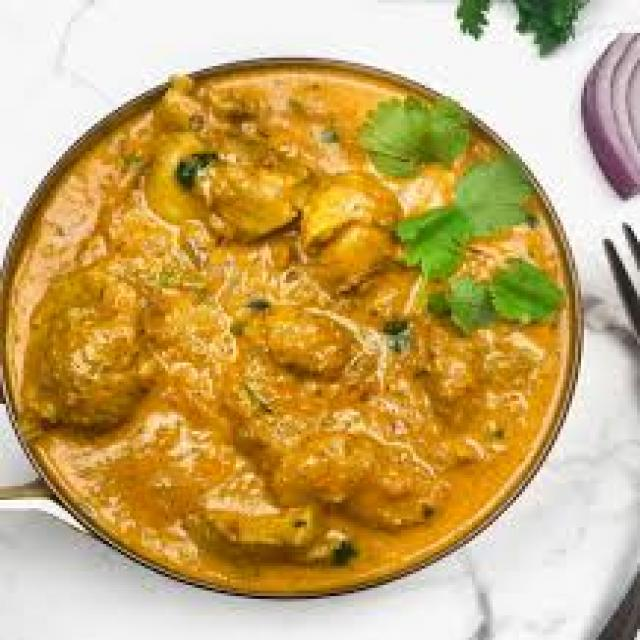Chicken Curry: (12, 63, 572, 591)
